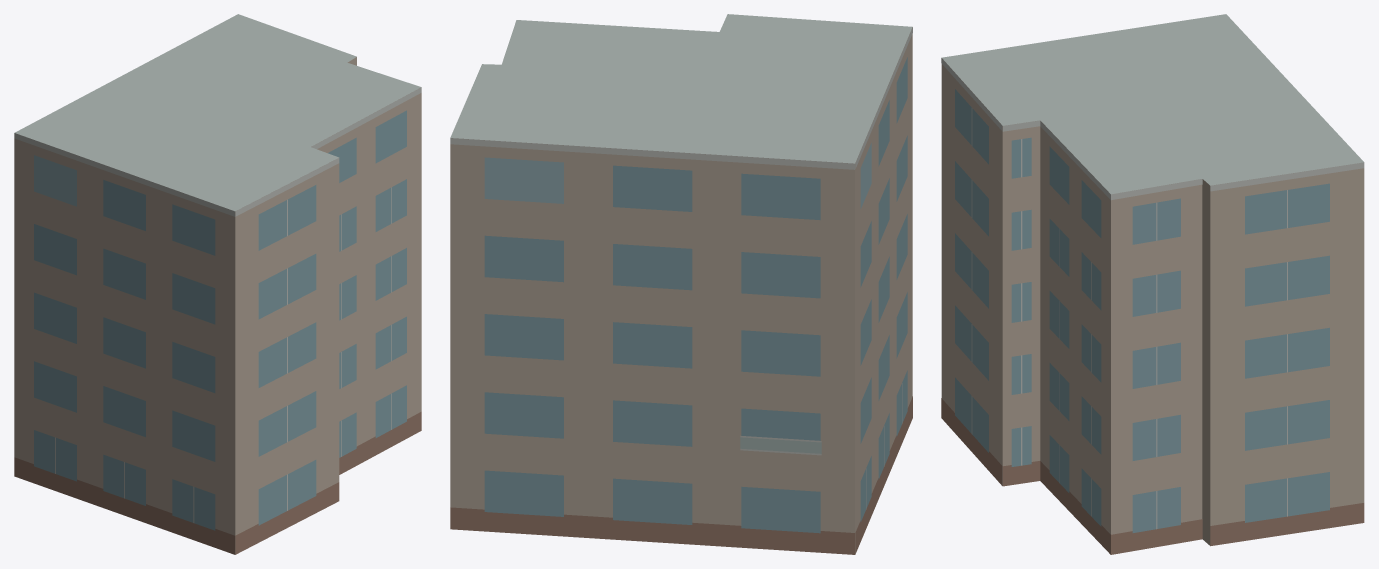
File: survey-upis-32951491.glb
The picture shows the model from 3 angles, left to right: view 1: azimuth 30°, elevation 25°; view 2: azimuth 150°, elevation 25°; view 3: azimuth 270°, elevation 25°; orthographic projection. The views are drawn at different scales.
Parts seen in each view (by area): view 1: survey-upis-32951491.tmp; view 2: survey-upis-32951491.tmp; view 3: survey-upis-32951491.tmp.
Part boxes in pixels (left/top/right/bottom): survey-upis-32951491.tmp: left=14, top=14, right=421, bottom=554; survey-upis-32951491.tmp: left=450, top=14, right=912, bottom=554; survey-upis-32951491.tmp: left=941, top=14, right=1364, bottom=554.
Bounding box in the file's own units: 16.22 × 15.1 × 16.06.
